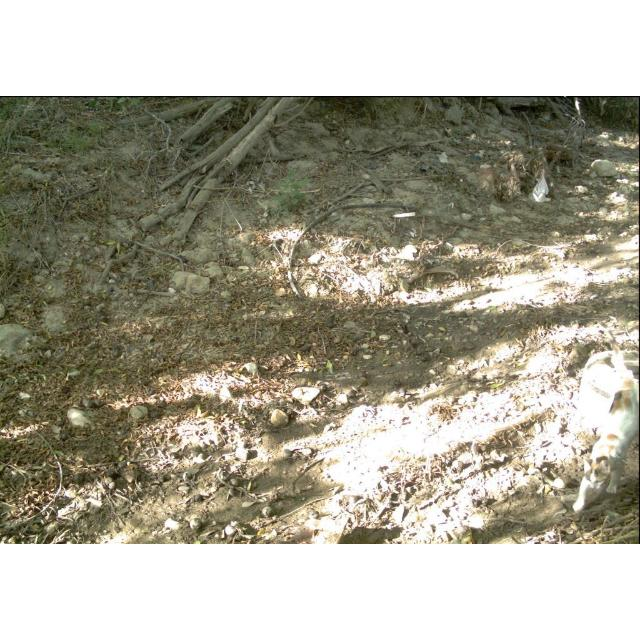animals: (574, 340, 640, 512)
